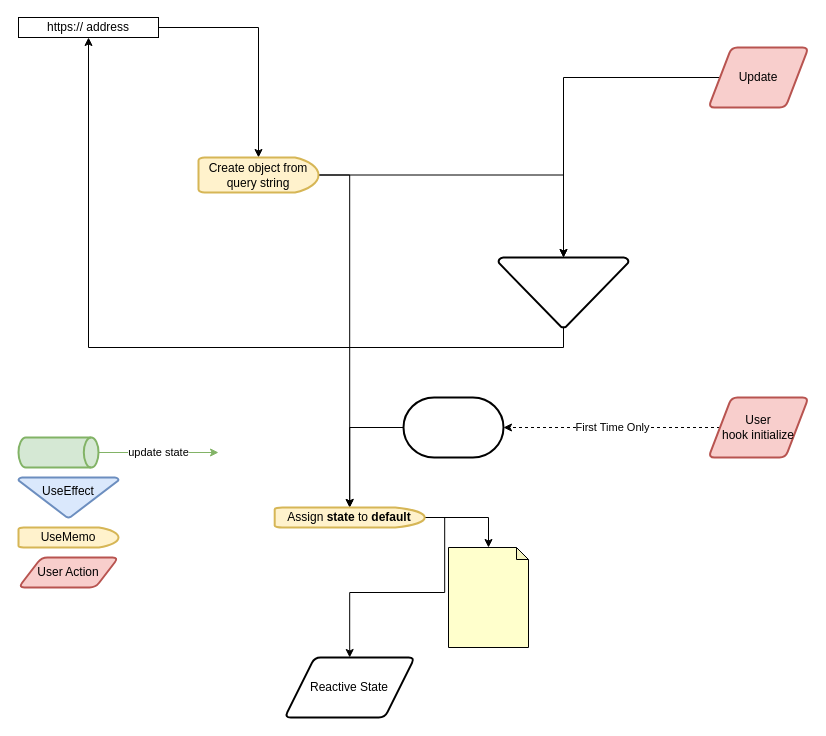
Some shapes in this 826 by 736 pixel diagram are drawn without their labels. Here are the shapes that lost their labels. From the top down, the box of each, then its label:
(497, 256, 629, 328): Assign Updated to QueryObject
(402, 396, 504, 458): default values
(17, 436, 99, 468): UseState
(448, 546, 528, 648): This output should never go to the address in any design
